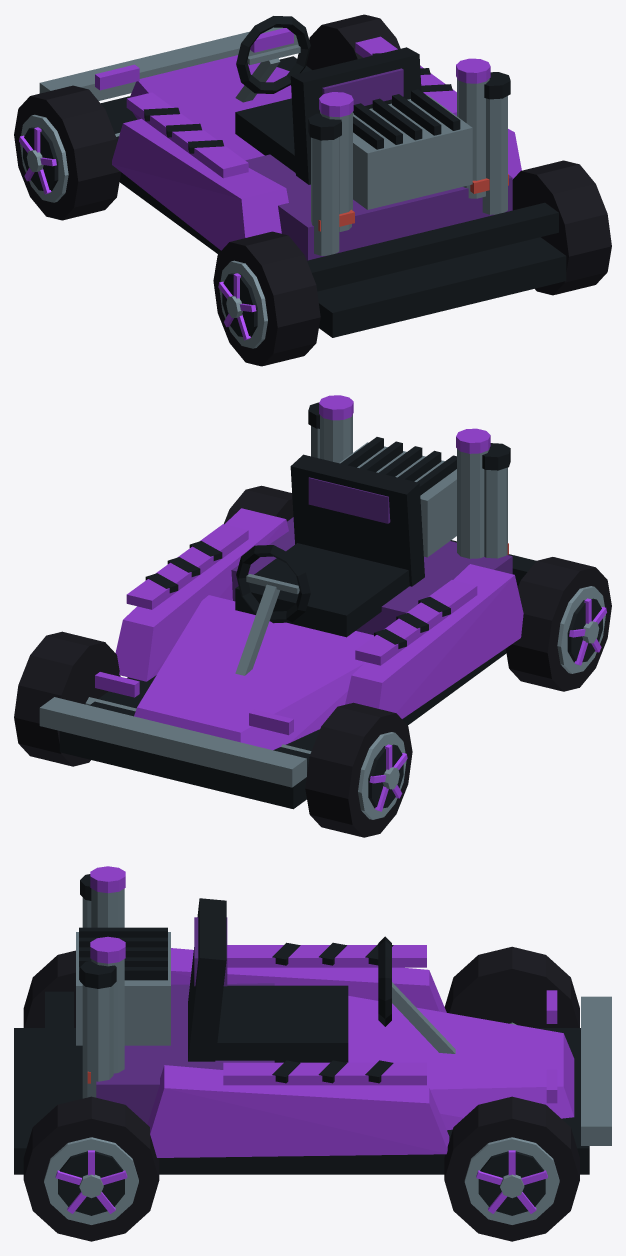
Rendered from kart.glb.
The picture shows the model from 3 angles, top to bottom: view 1: azimuth 30°, elevation 25°; view 2: azimuth 150°, elevation 25°; view 3: azimuth 270°, elevation 25°; orthographic projection. The views are drawn at different scales.
Parts seen in each view (by area): view 1: chassis, wheel-rear-left, wheel-front-left, wheel-rear-right, wheel-front-right; view 2: chassis, wheel-front-left, wheel-rear-left, wheel-front-right, wheel-rear-right; view 3: chassis, wheel-front-right, wheel-rear-right, wheel-front-left, wheel-rear-left.
Boxes of the visible parts, left/top/right/bottom form: chassis: left=39, top=16, right=566, bottom=337; wheel-rear-left: left=213, top=231, right=320, bottom=366; wheel-front-left: left=14, top=85, right=120, bottom=220; wheel-rear-right: left=512, top=160, right=611, bottom=295; wheel-front-right: left=306, top=14, right=400, bottom=69; chassis: left=39, top=395, right=536, bottom=809; wheel-front-left: left=305, top=702, right=412, bottom=837; wheel-rear-left: left=505, top=557, right=611, bottom=691; wheel-front-right: left=14, top=631, right=120, bottom=766; wheel-rear-right: left=224, top=485, right=293, bottom=524; chassis: left=14, top=866, right=611, bottom=1174; wheel-front-right: left=444, top=1096, right=579, bottom=1241; wheel-rear-right: left=23, top=1096, right=159, bottom=1241; wheel-front-left: left=444, top=946, right=579, bottom=1027; wheel-rear-left: left=23, top=950, right=75, bottom=1027.
Bounding box in the file's own units: 2.27 × 1.4 × 3.09.
